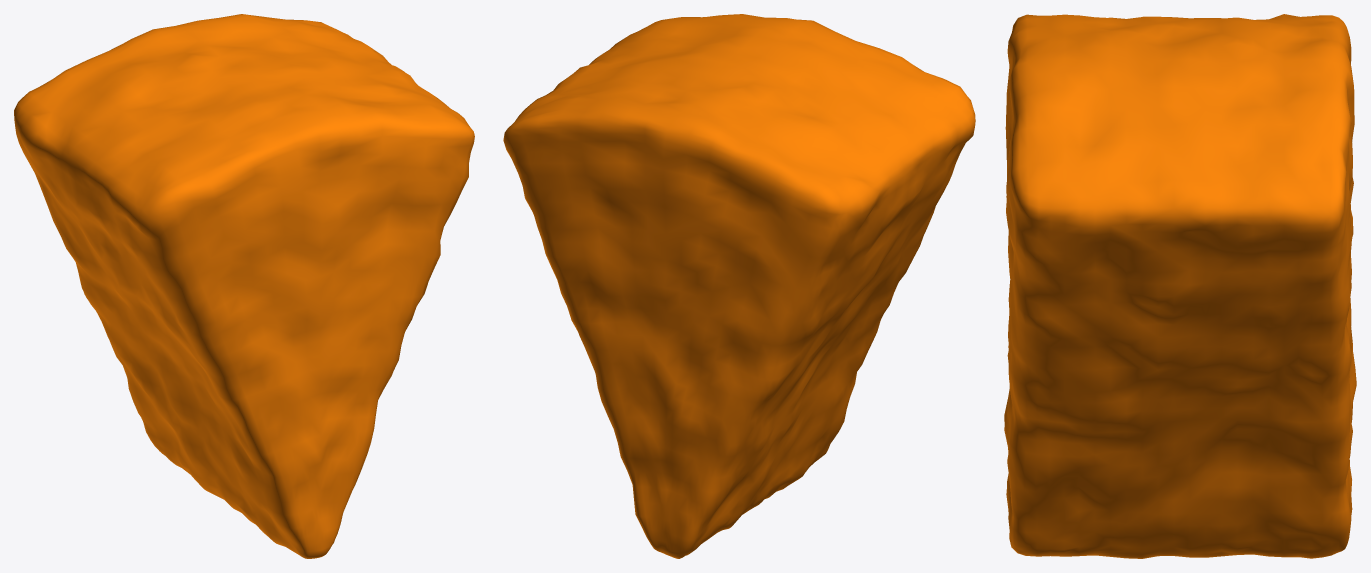
3 renders of one model, left to right at view 1: azimuth 30°, elevation 25°; view 2: azimuth 150°, elevation 25°; view 3: azimuth 270°, elevation 25°, orthographic. The views are drawn at different scales.
Size of the model in its own units: 0.8227 by 1 by 0.638.
